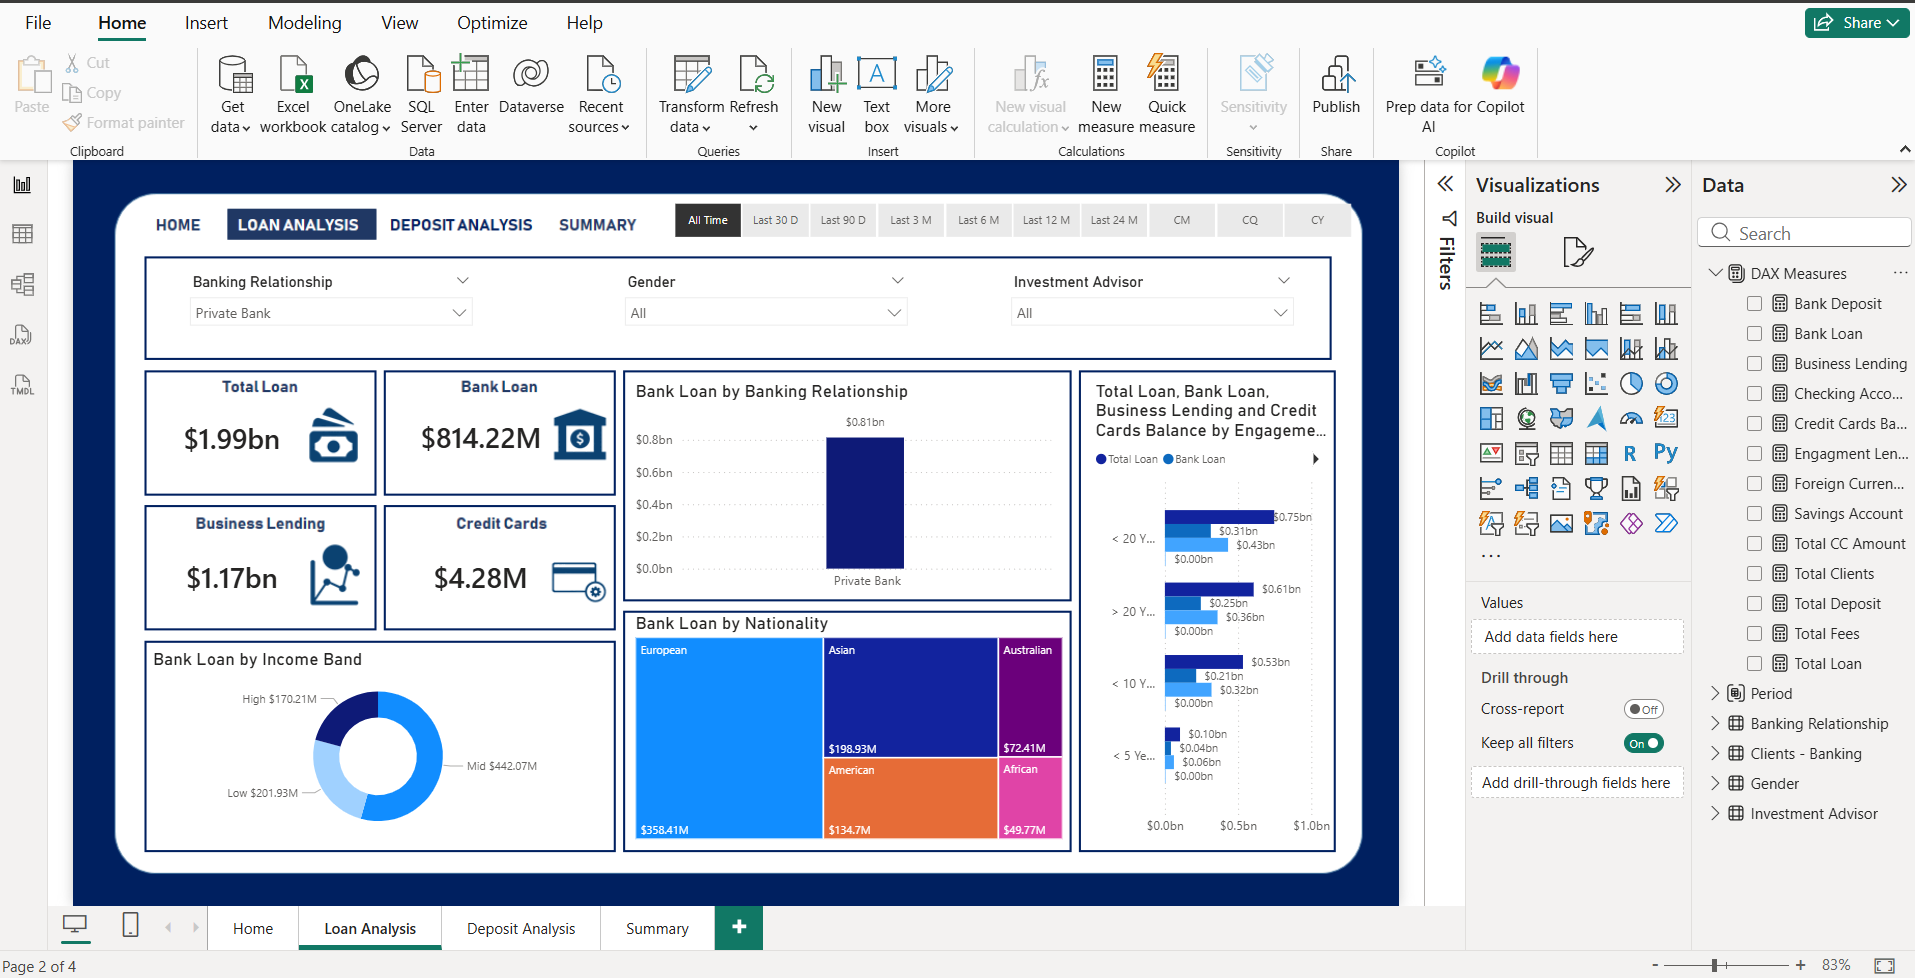

What the dashboard file says about the page in this screenshot:
{"tool":"powerbi","page":{"name":"Loan Analysis","canvas":[1280,720],"ordinal":1},"visuals":[{"type":"card","fields":{"Values":["DAX Measures.Total Loan"]},"box":[72.7,224,161.8,90.3],"z":0},{"type":"card","fields":{"Values":["DAX Measures.Bank Loan"]},"box":[307.2,224,172.4,89.1],"z":1000},{"type":"card","fields":{"Values":["DAX Measures.Credit Cards"]},"box":[307.2,360,171.2,89.1],"z":2000},{"type":"card","fields":{"Values":["DAX Measures.Business Lending"]},"box":[72.7,360,161.8,89.1],"z":3000},{"type":"slicer","fields":{"Values":["Banking Relationship.Banking Relationship"]},"box":[102.3,103.4,292.9,75.7],"z":4000},{"type":"slicer","fields":{"Values":["Gender.Gender"]},"box":[522.7,103.4,292.9,75.7],"z":5000},{"type":"slicer","fields":{"Values":["Investment Advisor.Investment Advisor"]},"box":[895,103.4,292.9,75.7],"z":6000},{"type":"donutChart","fields":{"Category":["Clients - Banking.Income Band"],"Y":["DAX Measures.Bank Loan"]},"box":[72.7,471.4,444.4,188.8],"z":7000},{"type":"clusteredBarChart","fields":{"Category":["Clients - Banking.Engagement Timeframe"],"Y":["DAX Measures.Total Loan","DAX Measures.Bank Loan","DAX Measures.Business Lending","DAX Measures.Credit Cards"]},"box":[981.5,212.2,236.9,447.9],"z":8000},{"type":"treemap","fields":{"Group":["Clients - Banking.Nationality"],"Values":["DAX Measures.Bank Loan"]},"box":[538.2,436.2,422.1,224],"z":9000},{"type":"lineClusteredColumnComboChart","fields":{"Y":["DAX Measures.Bank Loan"],"Category":["Banking Relationship.Banking Relationship"]},"box":[538.2,212.2,411.6,212.2],"z":10000},{"type":"slicer","fields":{"Values":["Period.Name"]},"box":[555.2,34.6,702.1,46.6],"z":11000},{"type":"actionButton","box":[72.8,44.2,58.5,31],"z":12000},{"type":"actionButton","box":[306.9,44.7,119.4,31],"z":13000},{"type":"actionButton","box":[471.6,44.2,83.6,31],"z":14000}]}

Visuals, with their boxes on the page's 1280x720 design canvas (x1, y1, x2, y2). These are canvas units, not pixel positions in the 1915x978 screenshot, which may show the page scaled, cropped or inside an application window:
card - DAX Measures.Total Loan: Rect(73, 224, 234, 314)
card - DAX Measures.Bank Loan: Rect(307, 224, 480, 313)
card - DAX Measures.Credit Cards: Rect(307, 360, 478, 449)
card - DAX Measures.Business Lending: Rect(73, 360, 234, 449)
slicer - Banking Relationship.Banking Relationship: Rect(102, 103, 395, 179)
slicer - Gender.Gender: Rect(523, 103, 816, 179)
slicer - Investment Advisor.Investment Advisor: Rect(895, 103, 1188, 179)
donutChart - Clients - Banking.Income Band x DAX Measures.Bank Loan: Rect(73, 471, 517, 660)
clusteredBarChart - Clients - Banking.Engagement Timeframe x DAX Measures.Total Loan: Rect(982, 212, 1218, 660)
treemap - Clients - Banking.Nationality x DAX Measures.Bank Loan: Rect(538, 436, 960, 660)
lineClusteredColumnComboChart - DAX Measures.Bank Loan x Banking Relationship.Banking Relationship: Rect(538, 212, 950, 424)
slicer - Period.Name: Rect(555, 35, 1257, 81)
actionButton: Rect(73, 44, 131, 75)
actionButton: Rect(307, 45, 426, 76)
actionButton: Rect(472, 44, 555, 75)
